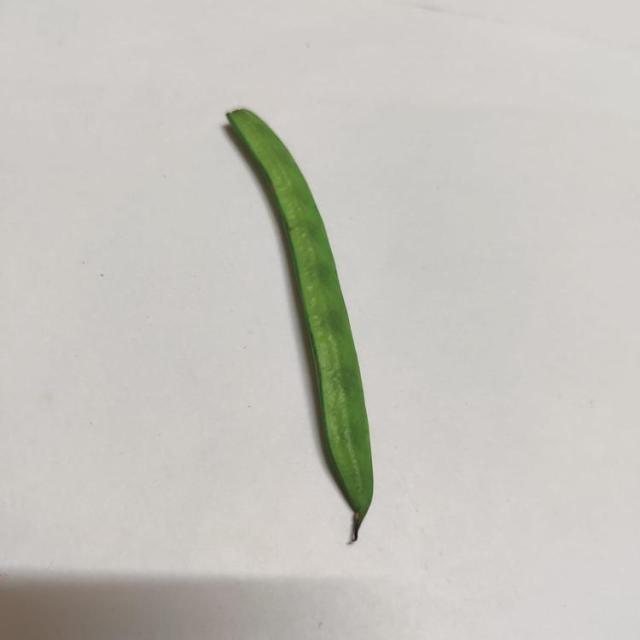Organik: (218, 98, 396, 553)
